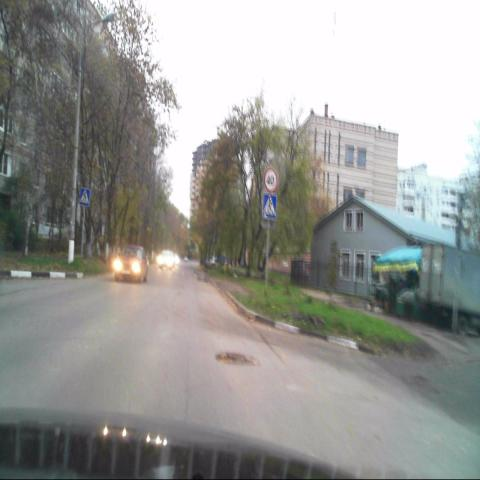3_24: (263, 167, 278, 191)
